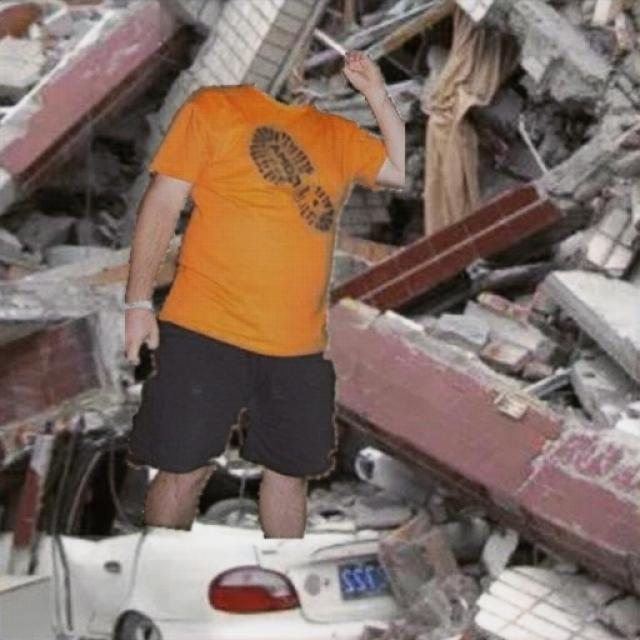Person in Rubble: (125, 49, 404, 538)
